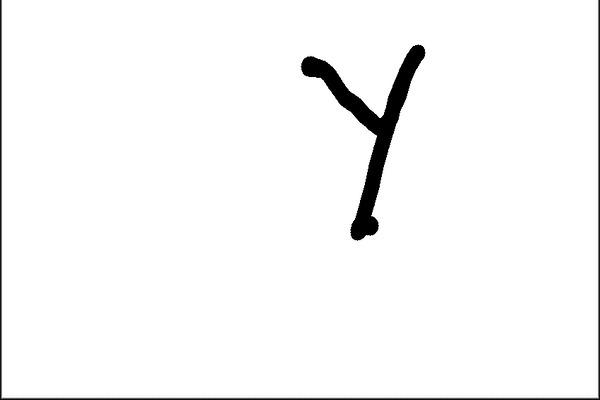Y: (291, 35, 434, 251)
